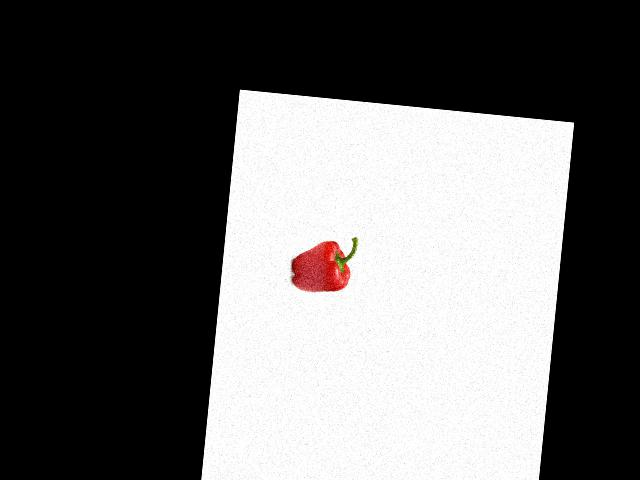bell_pepper: (284, 229, 362, 299)
